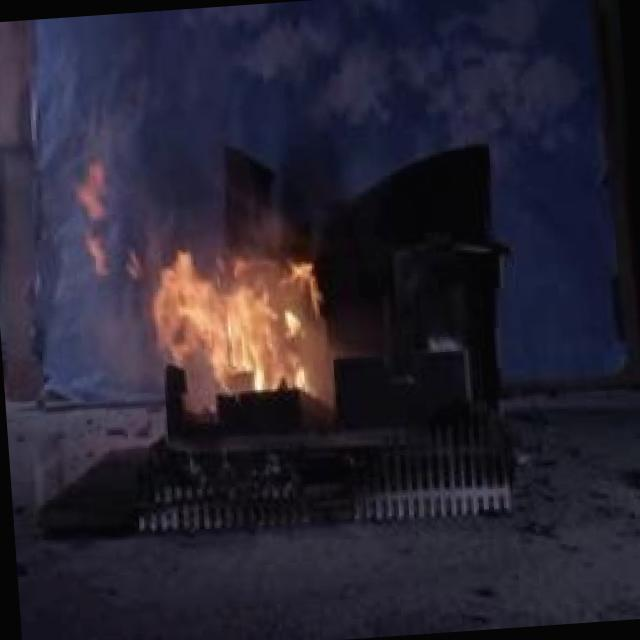fire: (126, 201, 340, 419)
